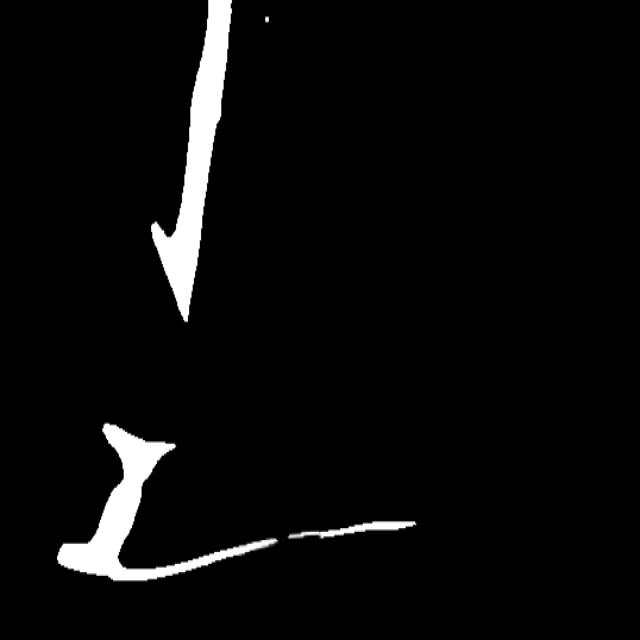sup: (269, 527, 297, 553)
